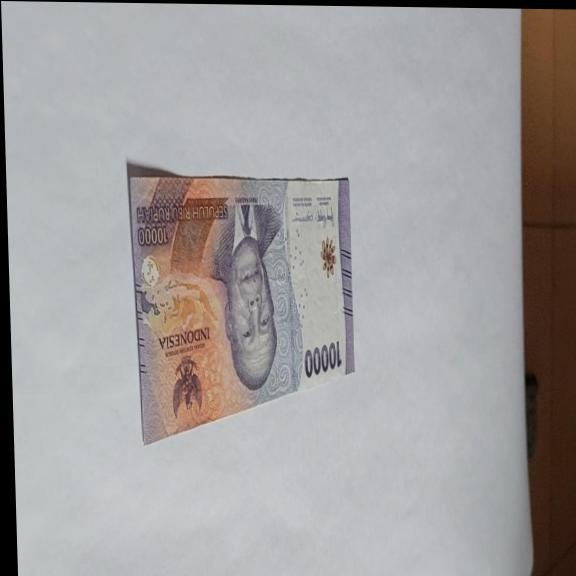Kertas: (126, 164, 358, 449), (302, 339, 343, 379)
